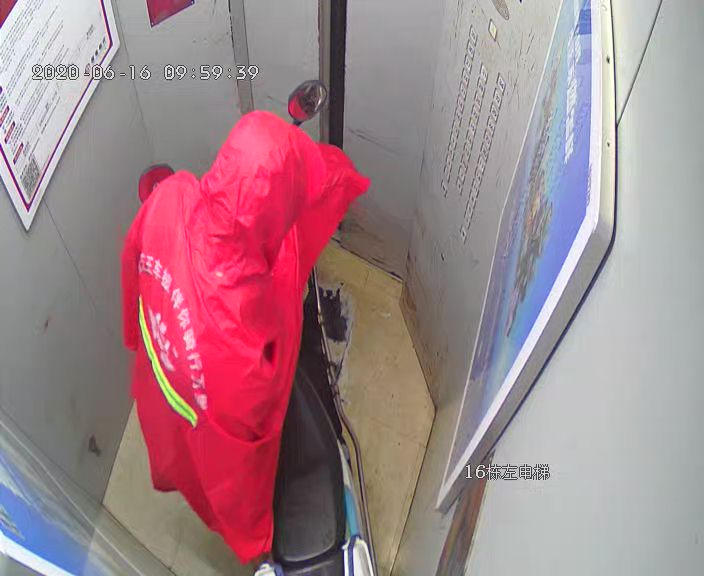Electric-bicycle: (134, 80, 379, 576)
